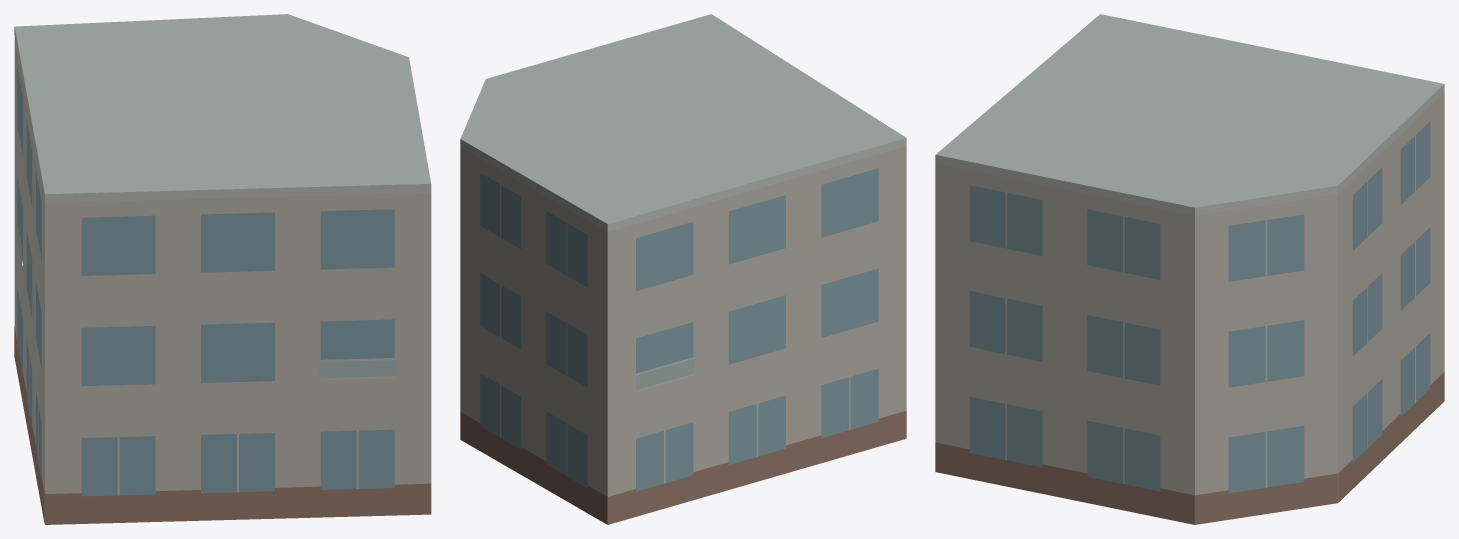
Rendered from survey-upis-32981166.glb.
3 renders of one model, left to right at view 1: azimuth 30°, elevation 25°; view 2: azimuth 150°, elevation 25°; view 3: azimuth 270°, elevation 25°, orthographic. The views are drawn at different scales.
Parts seen in each view (by area): view 1: survey-upis-32981166.tmp; view 2: survey-upis-32981166.tmp; view 3: survey-upis-32981166.tmp.
Part boxes in pixels (x1,y1,x2,y2): survey-upis-32981166.tmp: (14,14,431,524); survey-upis-32981166.tmp: (460,14,906,524); survey-upis-32981166.tmp: (935,14,1444,524).
Size of the model in its own units: 11.99 by 9.15 by 13.32.
